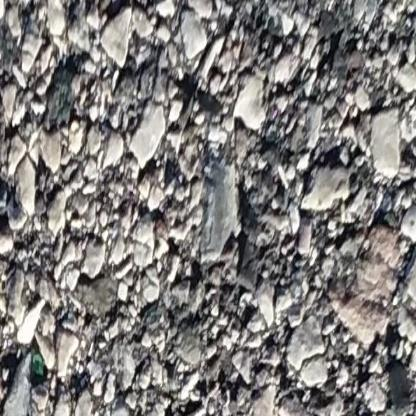Cracks: (0, 167, 15, 236)
